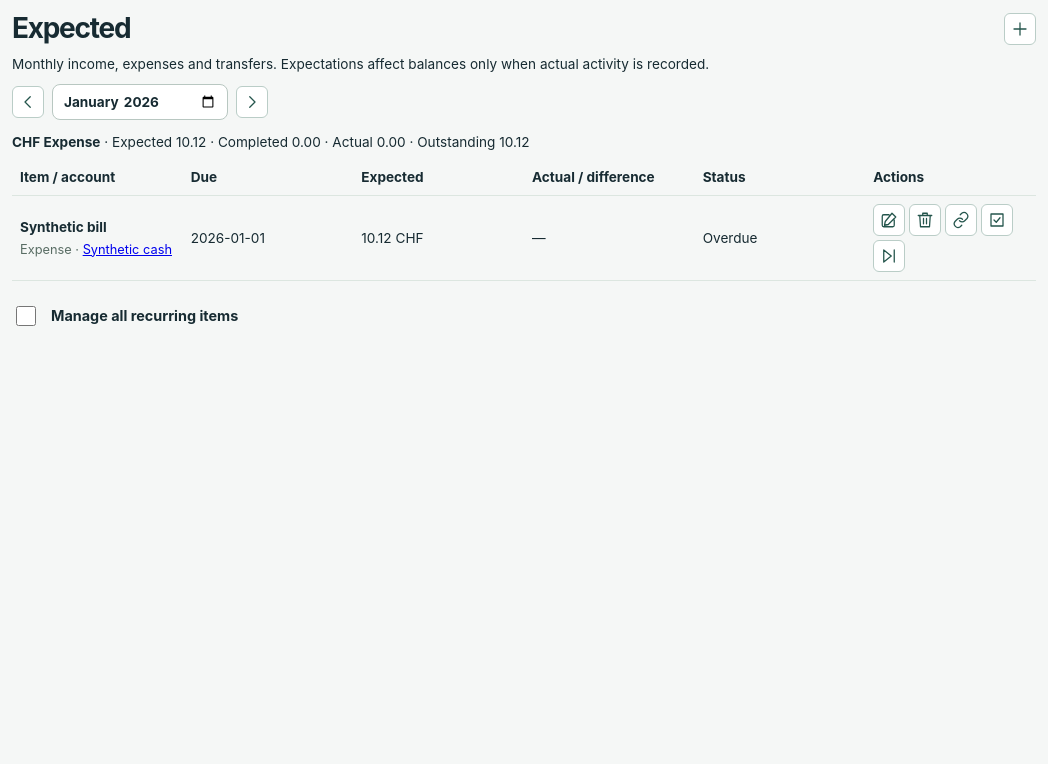
records overdue expectations before account opening or in another month
The width and height of the screenshot is (1048, 764).
Expected: the text "Overdue" is shown, [695,196,865,281]
Click the button named "Record Synthetic bill": click(997, 220) [981,204,1013,236]
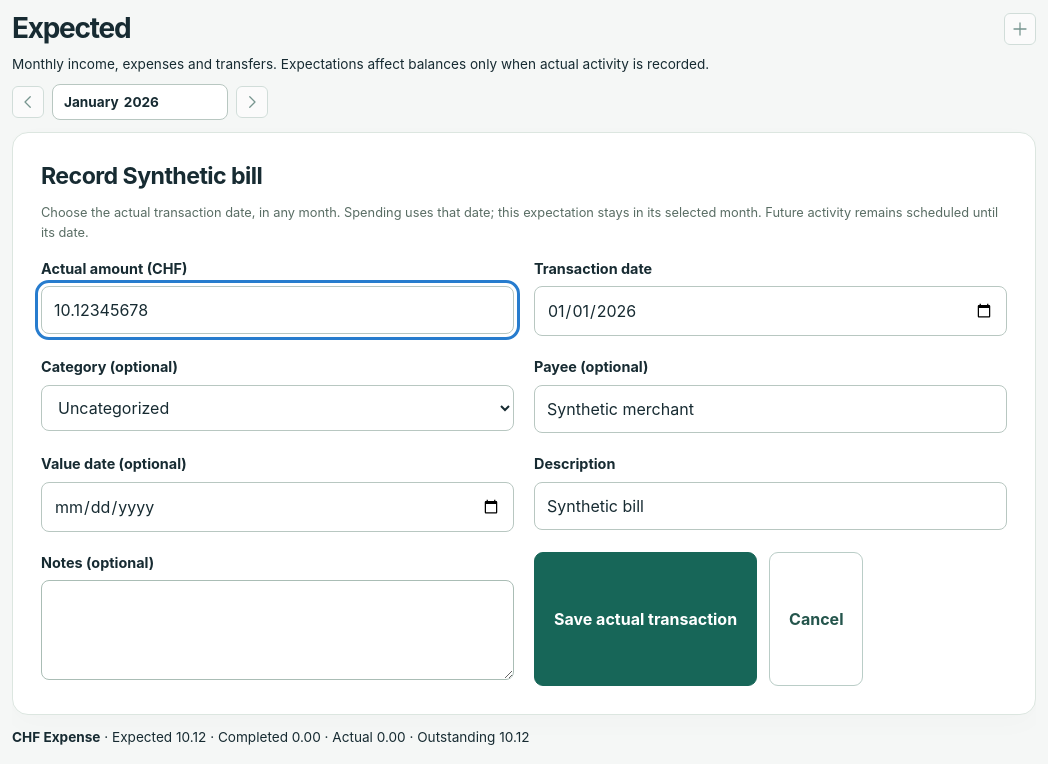
Expected: the date field labelled "Transaction date" holds "2026-01-01"
In the date field labelled "Transaction date": (770, 312) [534,286,1007,336], type "2026-03-15"
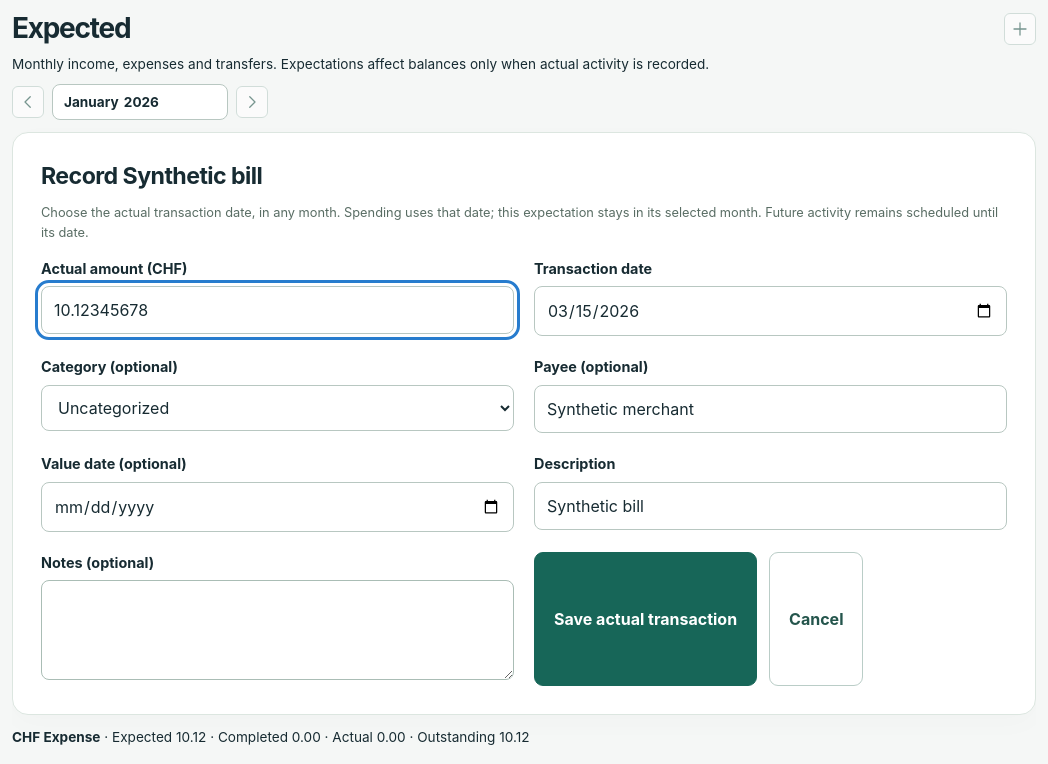
Click the button "Save actual transaction": click(646, 619) [534,552,757,686]
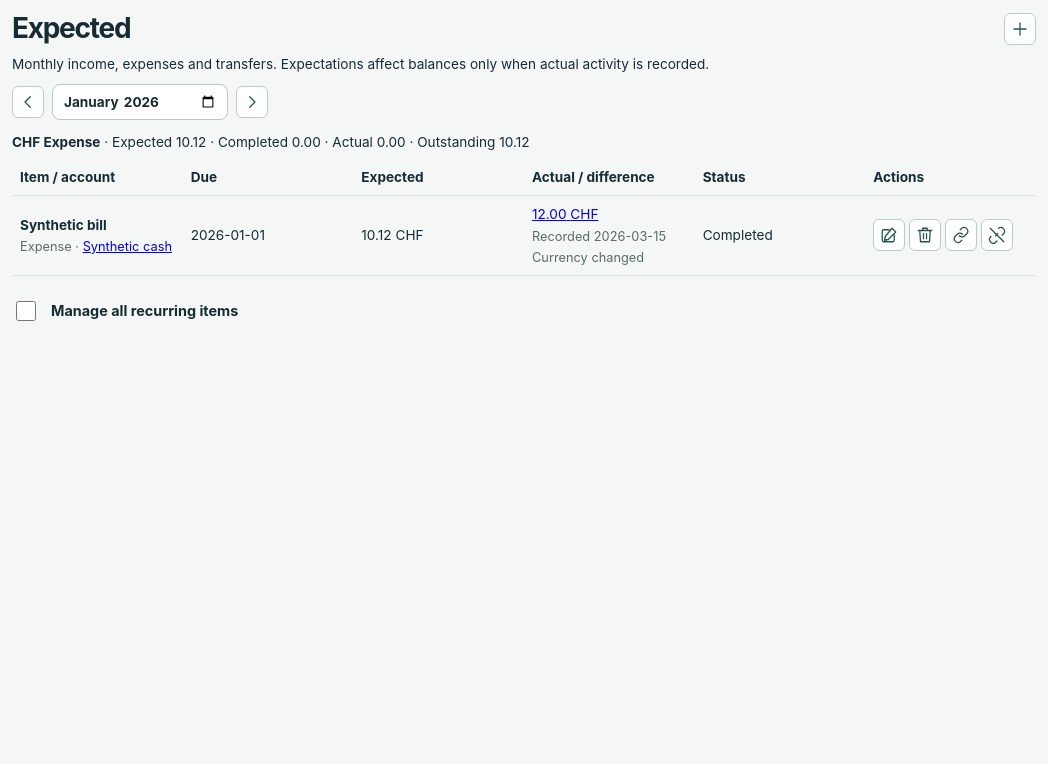
Expected: the text "Recorded 2026-03-15" is shown, [532,226,687,246]
